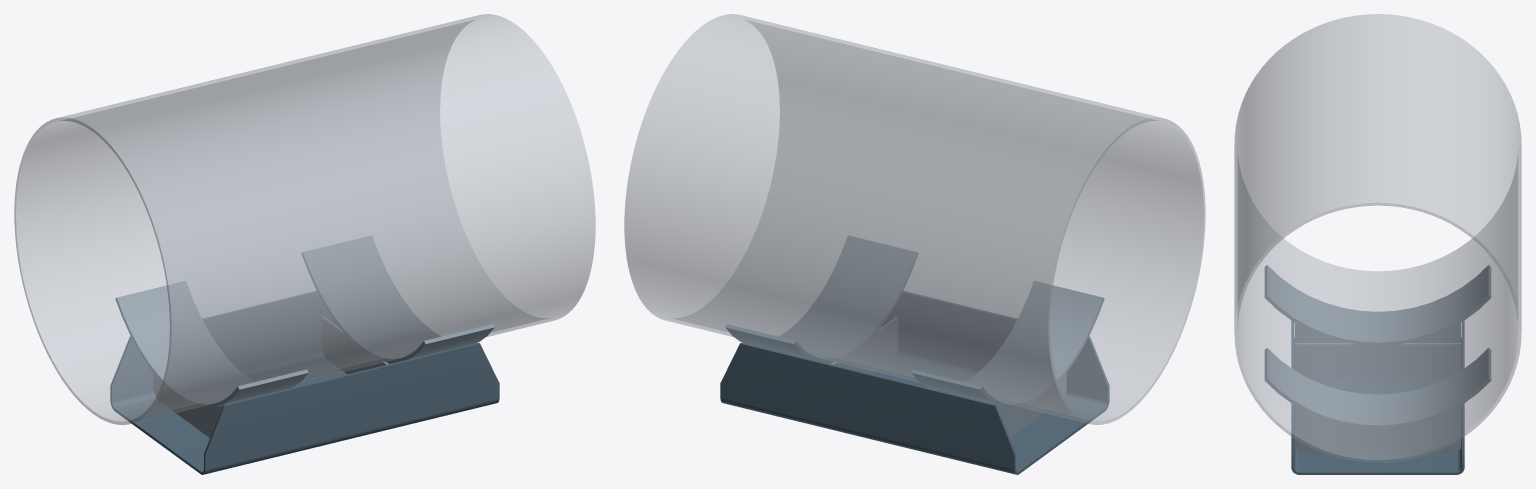
Rendered from TS-624.000-096-opora-dn630-H100-L680.glb.
3 renders of one model, left to right at view 1: azimuth 30°, elevation 25°; view 2: azimuth 150°, elevation 25°; view 3: azimuth 270°, elevation 25°, orthographic. The views are drawn at different scales.
Parts seen in each view (by area): view 1: truba, skoba, podushka_0, podushka_1, rebro4_1, rebro3_0; view 2: truba, skoba, podushka_0, podushka_1, rebro4_1, rebro3_0; view 3: truba, podushka_0, podushka_1, rebro4_0, skoba, rebro3_1, rebro3_0.
Boxes of the visible parts, x1=… form: truba: x1=14, y1=14, x2=595, y2=424; skoba: x1=110, y1=291, x2=499, y2=474; podushka_0: x1=115, y1=281, x2=308, y2=408; podushka_1: x1=302, y1=236, x2=494, y2=362; rebro4_1: x1=322, y1=317, x2=388, y2=374; rebro3_0: x1=153, y1=373, x2=222, y2=437; truba: x1=624, y1=14, x2=1205, y2=424; skoba: x1=720, y1=291, x2=1109, y2=474; podushka_0: x1=911, y1=281, x2=1104, y2=408; podushka_1: x1=725, y1=236, x2=917, y2=362; rebro4_1: x1=831, y1=317, x2=897, y2=374; rebro3_0: x1=997, y1=373, x2=1066, y2=437; truba: x1=1234, y1=14, x2=1521, y2=462; podushka_0: x1=1264, y1=265, x2=1491, y2=345; podushka_1: x1=1264, y1=348, x2=1491, y2=428; rebro4_0: x1=1294, y1=343, x2=1461, y2=379; skoba: x1=1291, y1=321, x2=1464, y2=474; rebro3_1: x1=1294, y1=405, x2=1461, y2=454; rebro3_0: x1=1294, y1=323, x2=1461, y2=342.
Size of the model in its own units: 980 by 729 by 630.
